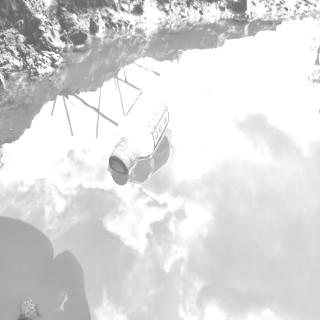bottle: (108, 77, 176, 176)
